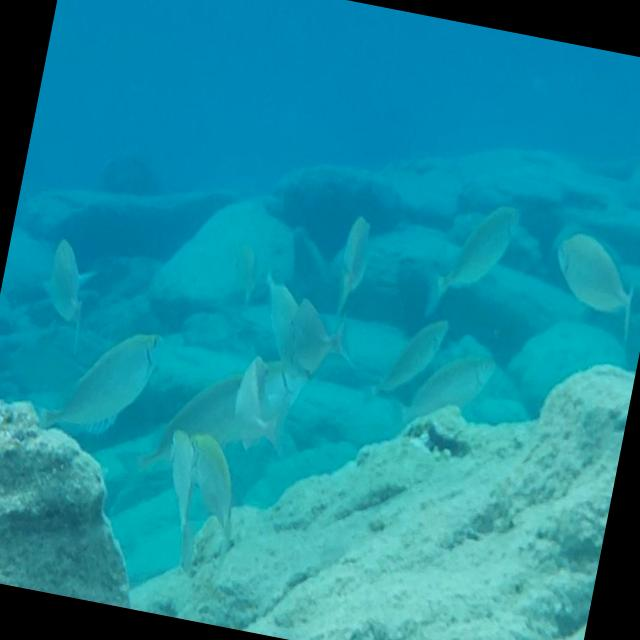Sokar Baligi: (17, 298, 174, 486), (530, 217, 640, 356), (15, 226, 106, 352)
